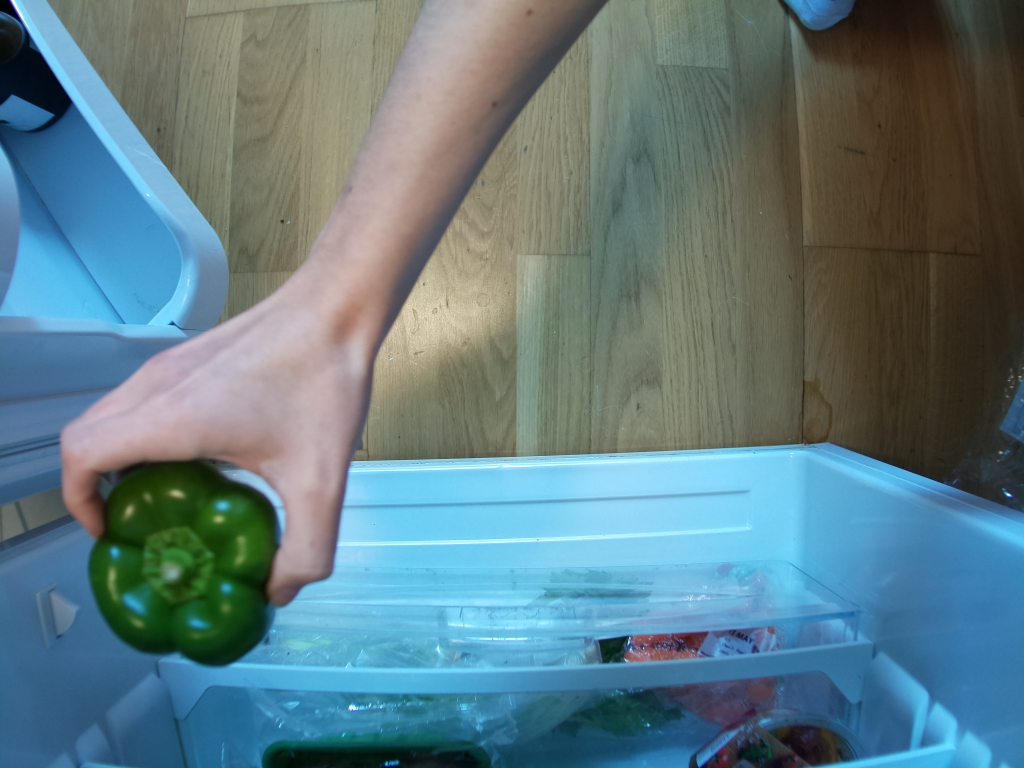pepper: (89, 462, 280, 667)
